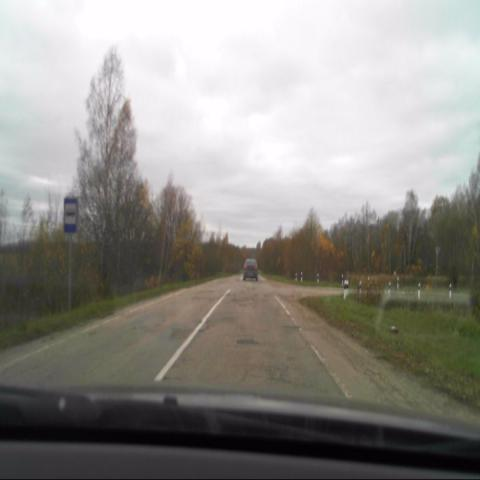5_16: (64, 196, 78, 233)
